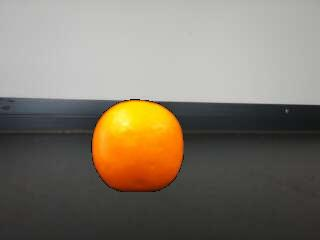Orange: (91, 99, 185, 194)
